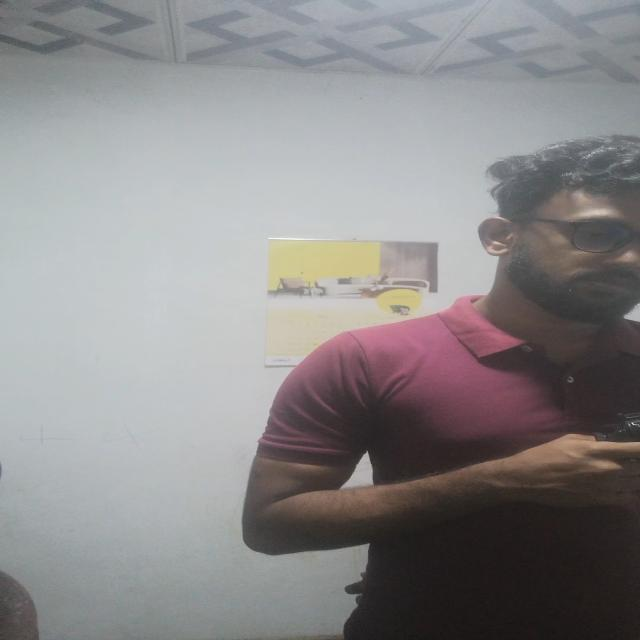Gun_Holder: (582, 408, 640, 529)
Person: (243, 141, 640, 640)
